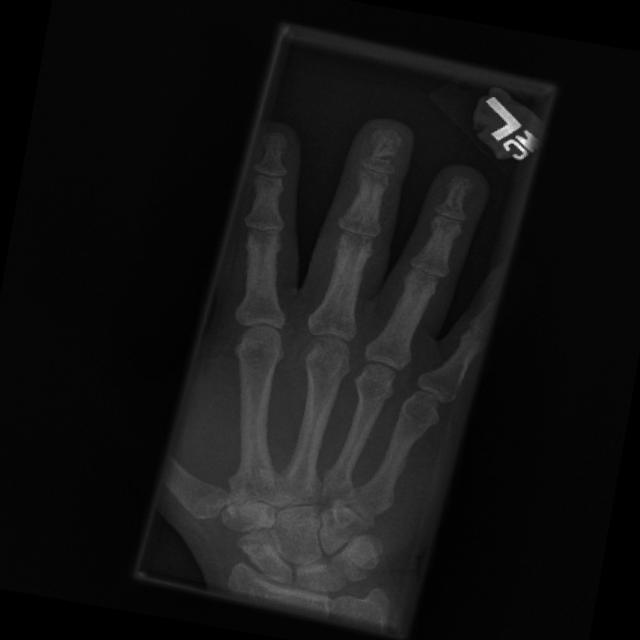fingers positive: (340, 128, 415, 203)
